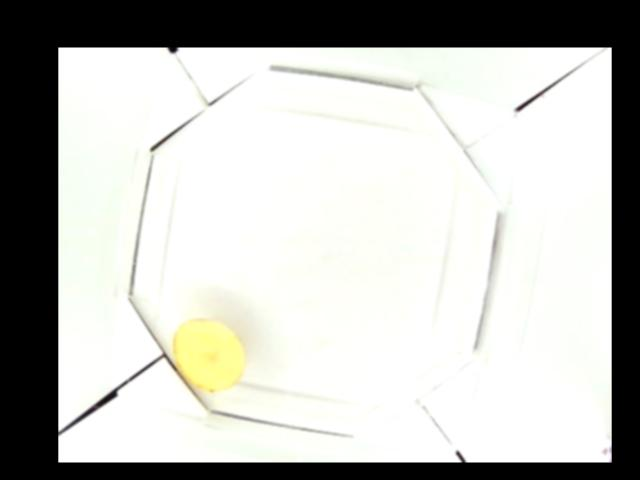Potato: (173, 318, 243, 387)
